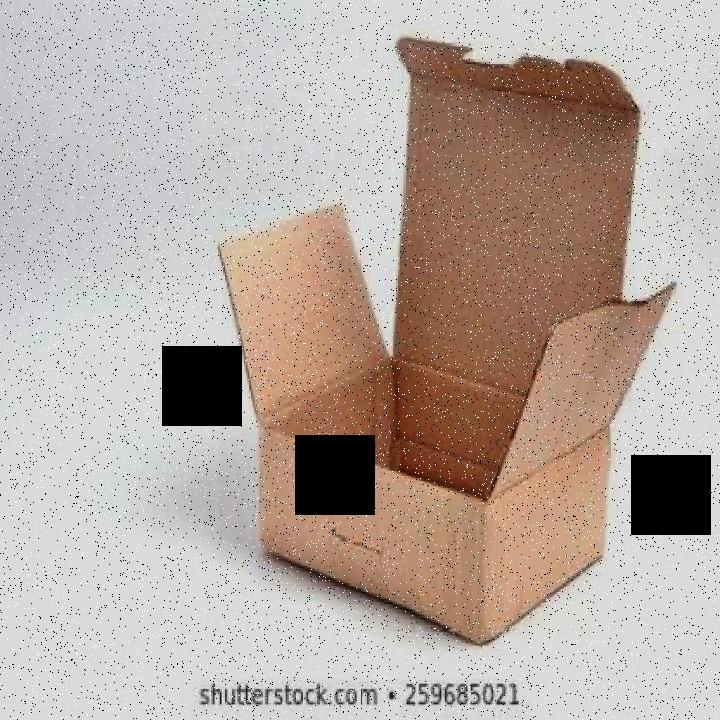box: (218, 17, 685, 656)
